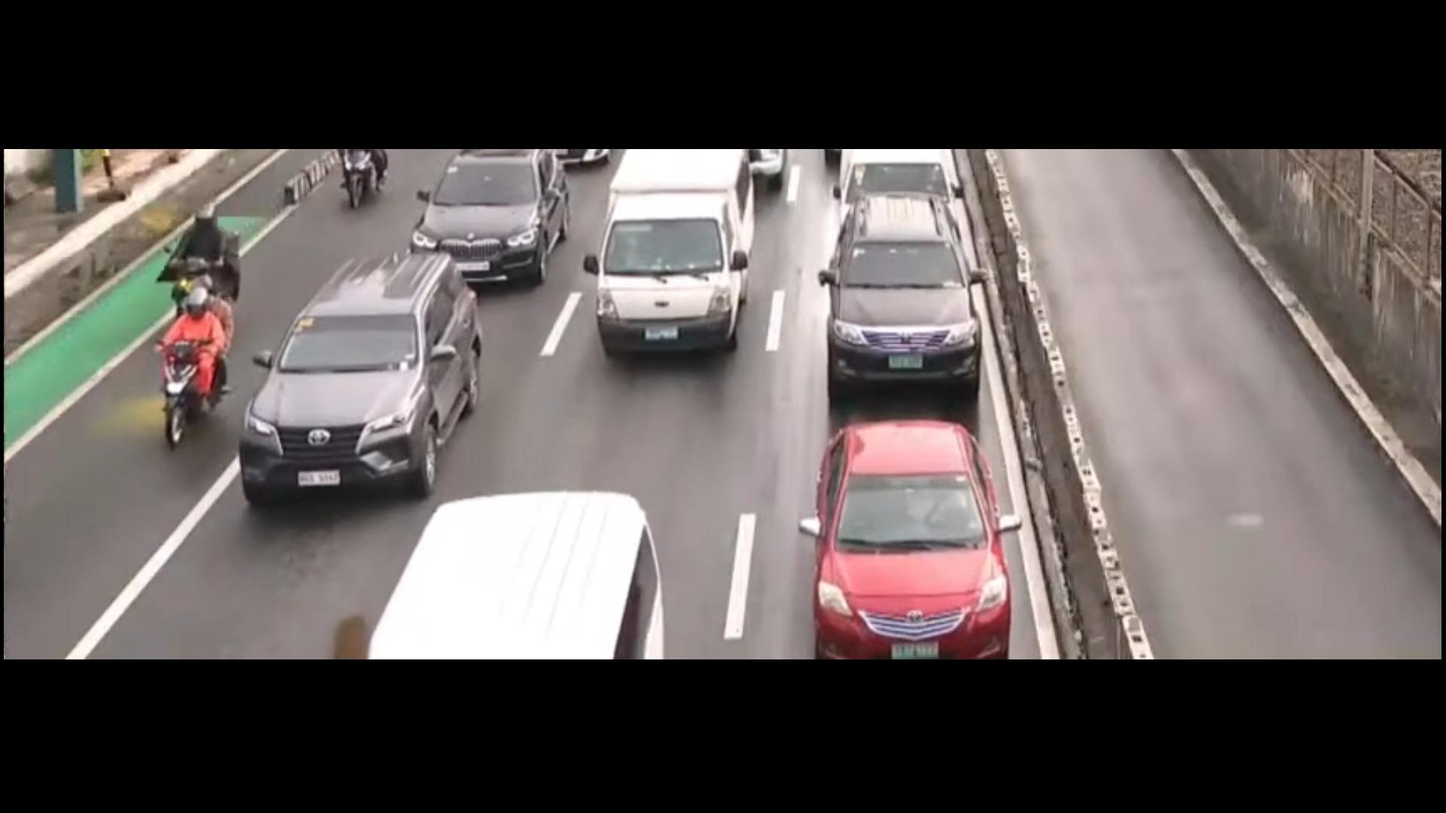Motorcycle: (139, 283, 251, 461), (173, 196, 232, 338), (333, 151, 384, 210)
Multicab: (547, 140, 763, 394)
SUV: (235, 247, 499, 514), (812, 394, 1023, 659), (818, 195, 996, 407), (401, 149, 588, 288)
Van: (371, 482, 693, 654)
